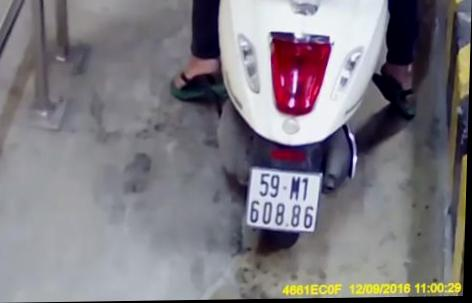License_Plate: (235, 161, 331, 241)
